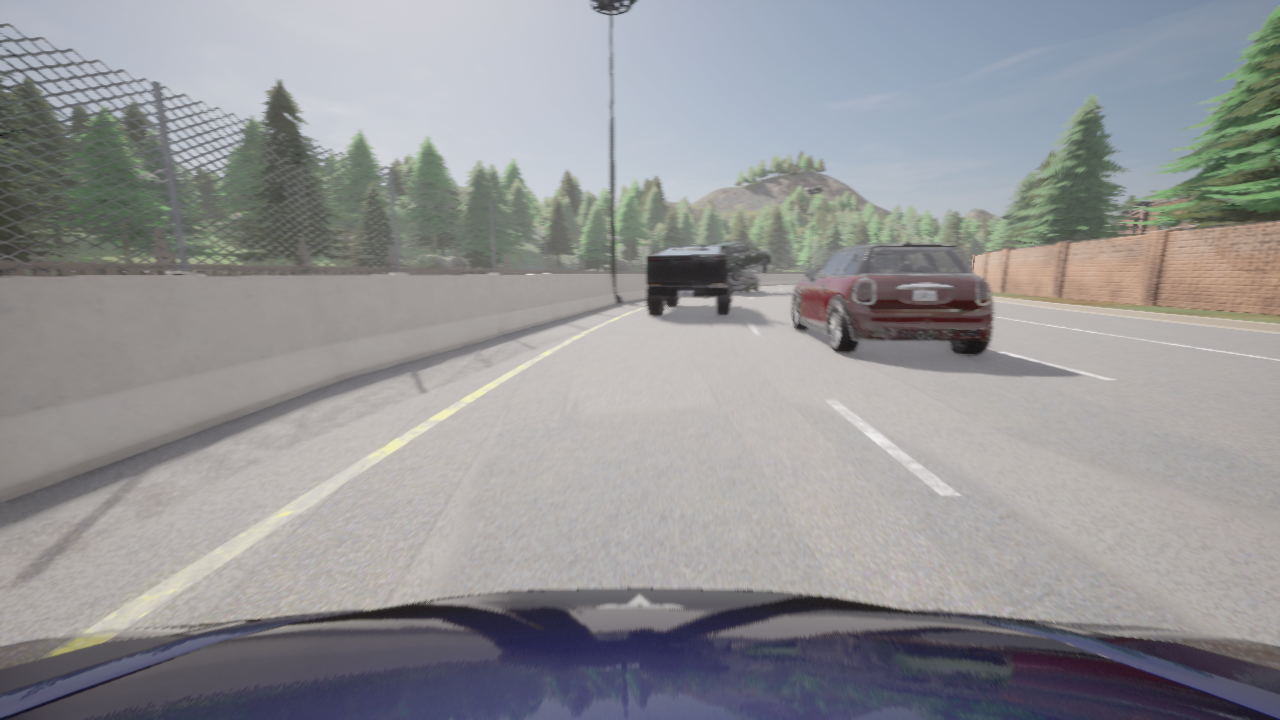cyclist: (0, 588, 1279, 719), (791, 235, 992, 354), (646, 246, 731, 315), (707, 241, 771, 281), (729, 270, 758, 292), (816, 267, 821, 272)
